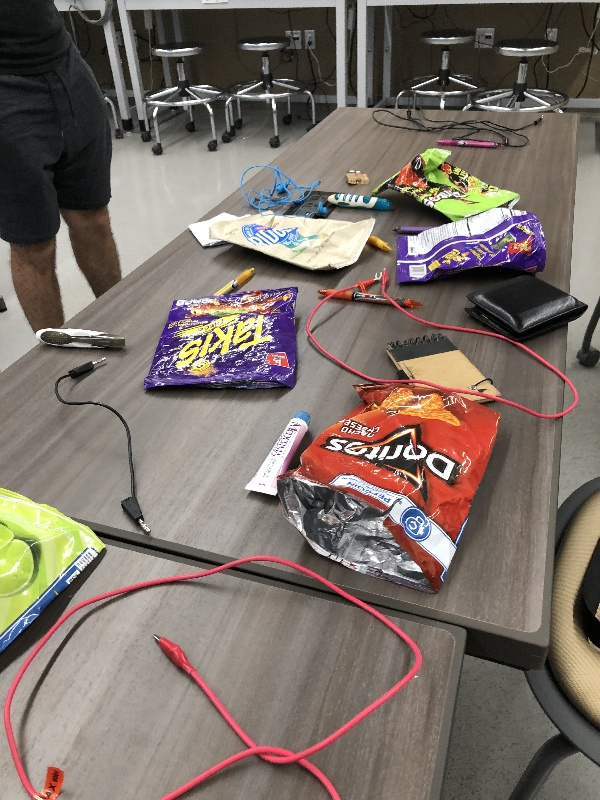bag: (272, 380, 505, 601), (1, 482, 114, 669), (137, 291, 303, 394), (390, 206, 551, 286), (370, 144, 524, 220), (210, 206, 380, 271)
